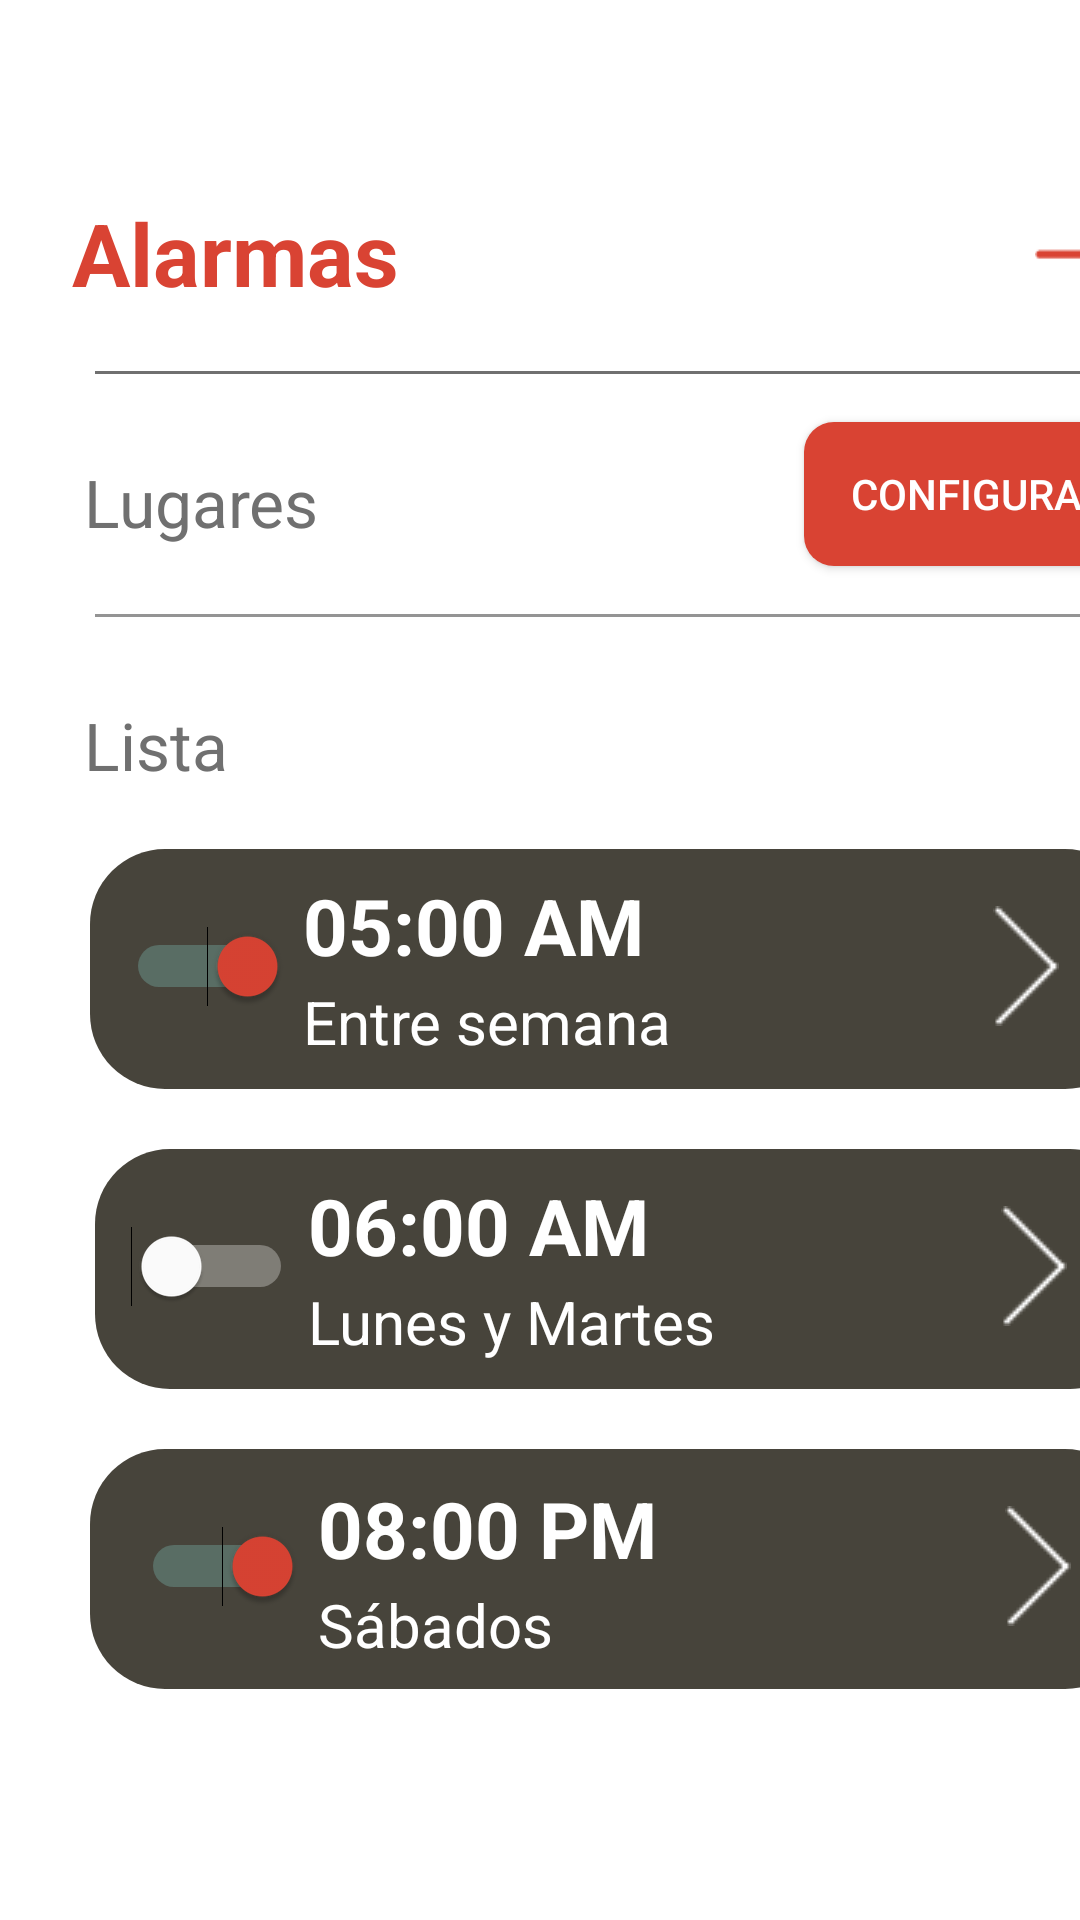

Locate icon controls on the screen. Image size 1080×1920, boxes as (x1, y1, x2, y2).
adelante: (993, 906, 1059, 1026), (1001, 1206, 1067, 1326), (1005, 1506, 1071, 1626)
